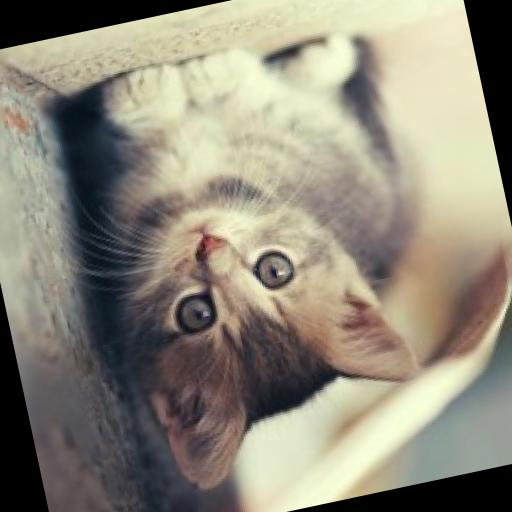cat: (51, 17, 456, 512)
